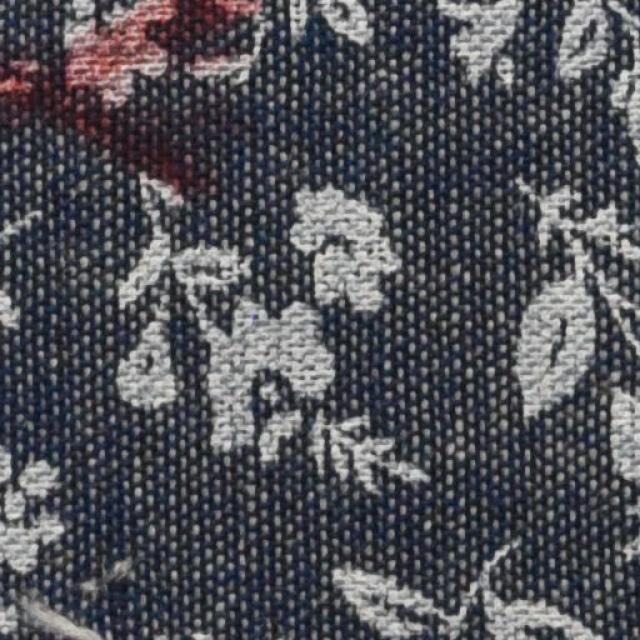Stain: (0, 0, 276, 193)
